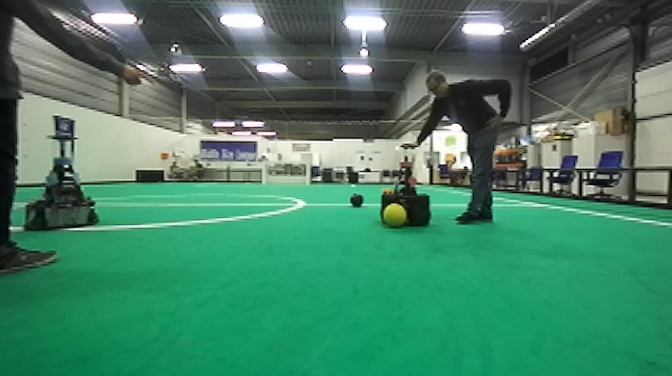ball: (380, 200, 409, 230), (349, 192, 365, 209)
goal: (261, 161, 312, 190)
goalpost: (305, 161, 311, 187), (261, 160, 267, 186)
humen: (399, 67, 517, 229)
robot: (20, 131, 107, 236), (375, 143, 433, 231)
